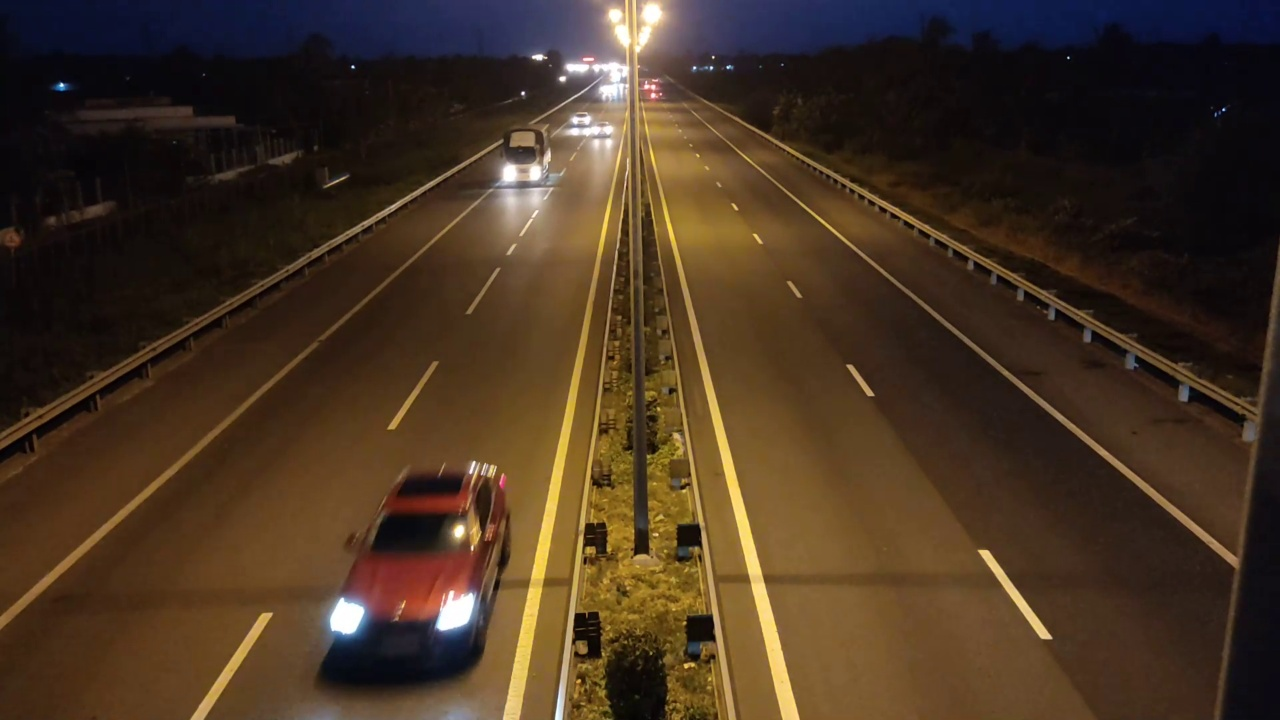car: (324, 459, 512, 680)
truck: (494, 118, 555, 189)
